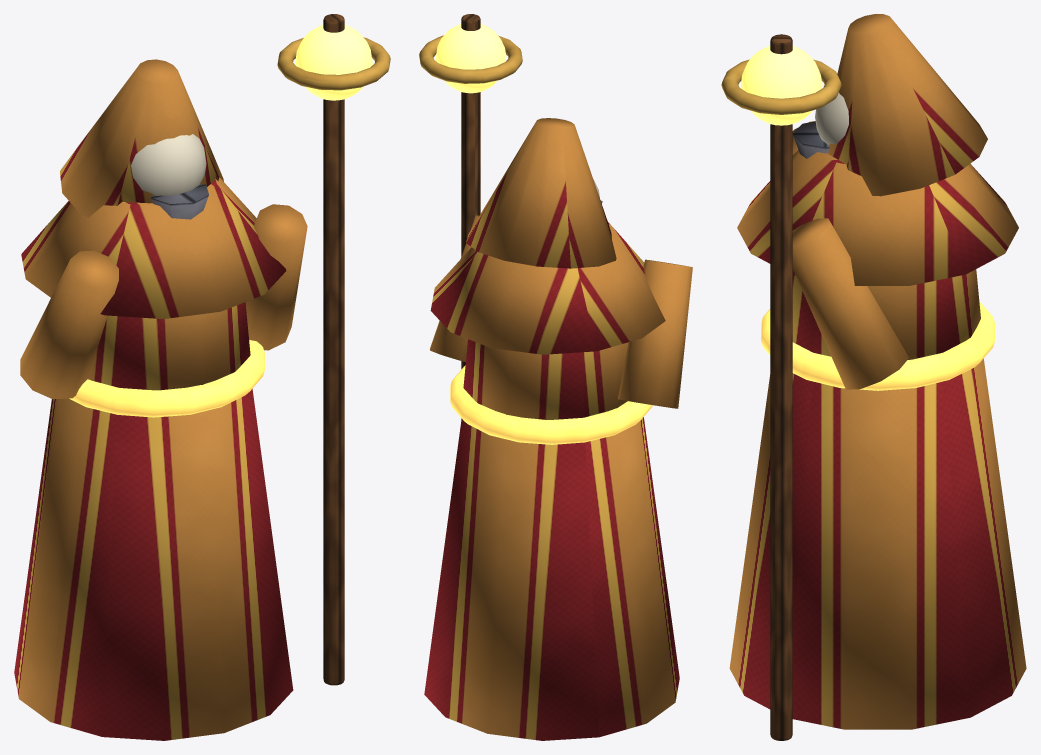
Rendered from safe_room_vendor.glb.
The picture shows the model from 3 angles, left to right: view 1: azimuth 30°, elevation 25°; view 2: azimuth 150°, elevation 25°; view 3: azimuth 270°, elevation 25°; orthographic projection. The views are drawn at different scales.
Visible parts, largest first — view 1: RobeLower, ShoulderMantle, Staff, VendorHood, RobeUpper, Sleeve, GoldSash, Sleeve.001, VendorFace, LanternGlow, LanternCage, VendorBeard; view 2: RobeLower, ShoulderMantle, VendorHood, RobeUpper, Sleeve, GoldSash, Staff, LanternGlow, LanternCage, Sleeve.001; view 3: RobeLower, ShoulderMantle, VendorHood, Staff, Sleeve.001, RobeUpper, GoldSash, LanternGlow, LanternCage, VendorFace, VendorBeard.
Part boxes in pixels (x1,y1,x2,y2): RobeLower: [14, 389, 293, 740]; ShoulderMantle: [21, 177, 286, 318]; Staff: [323, 14, 344, 685]; VendorHood: [60, 59, 223, 217]; RobeUpper: [88, 302, 250, 390]; Sleeve: [20, 250, 118, 399]; GoldSash: [69, 340, 264, 417]; Sleeve.001: [245, 204, 307, 350]; VendorFace: [131, 134, 206, 195]; LanternGlow: [295, 25, 372, 100]; LanternCage: [277, 37, 390, 90]; VendorBeard: [150, 183, 208, 219]; RobeLower: [424, 417, 679, 740]; ShoulderMantle: [430, 222, 665, 354]; VendorHood: [466, 118, 616, 268]; RobeUpper: [463, 339, 628, 419]; Sleeve: [617, 259, 692, 408]; GoldSash: [450, 365, 652, 444]; Staff: [461, 14, 480, 419]; LanternGlow: [435, 24, 506, 93]; LanternCage: [419, 35, 522, 83]; Sleeve.001: [430, 215, 478, 361]; RobeLower: [729, 358, 1026, 729]; ShoulderMantle: [737, 150, 1018, 285]; VendorHood: [828, 14, 987, 196]; Staff: [770, 34, 792, 740]; Sleeve.001: [792, 218, 908, 389]; RobeUpper: [792, 269, 980, 359]; GoldSash: [761, 301, 994, 390]; LanternGlow: [740, 46, 822, 125]; LanternCage: [721, 59, 841, 114]; VendorFace: [815, 92, 848, 144]; VendorBeard: [793, 121, 829, 158].
Bounding box in the file's own units: 1.03 × 2.08 × 0.822.
Materials: 8 (6 with a texture image).
